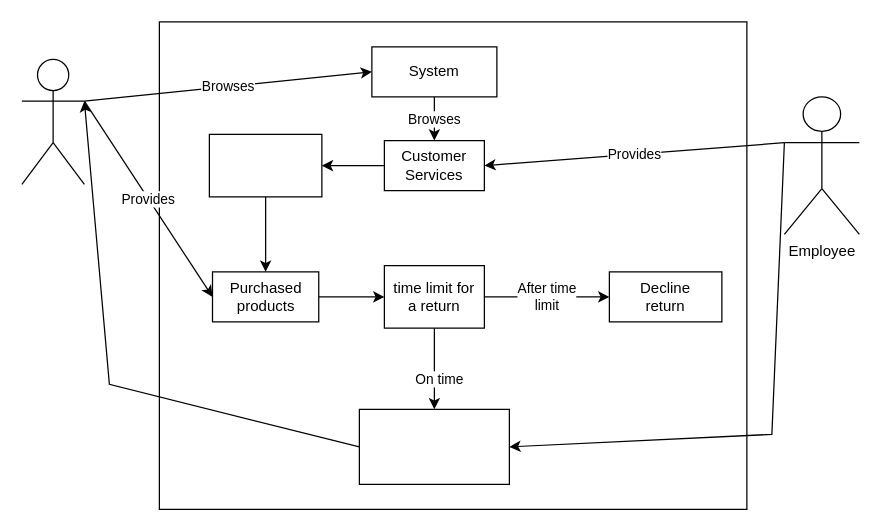
This 881x531 diagram has some shape labels left out. The shapes that lost their labels are listed below. From the top down, each one's centre as x and y in pixels, then its label:
At (52,121): "Alan".
At (265,165): "Initialize a return".
At (433,446): "Give money back".
